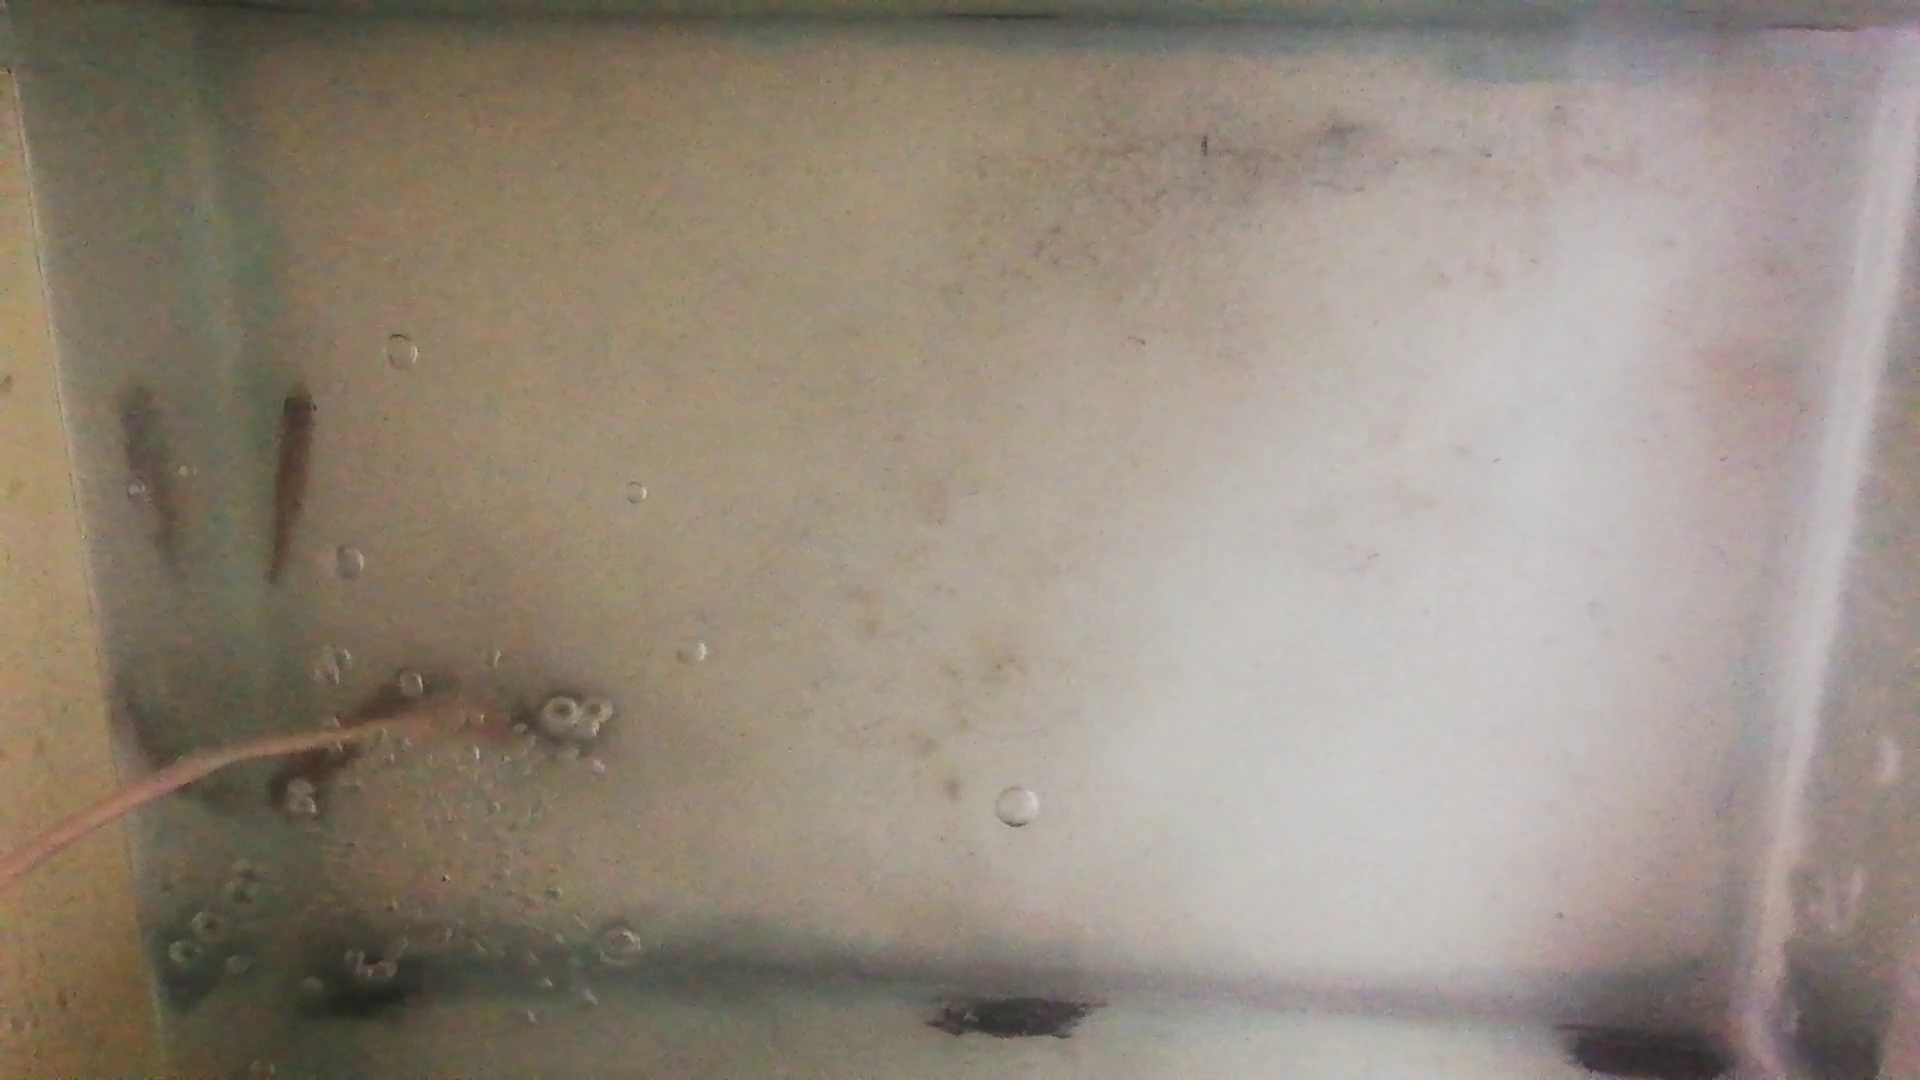fish: (284, 669, 452, 812), (264, 381, 319, 588)
